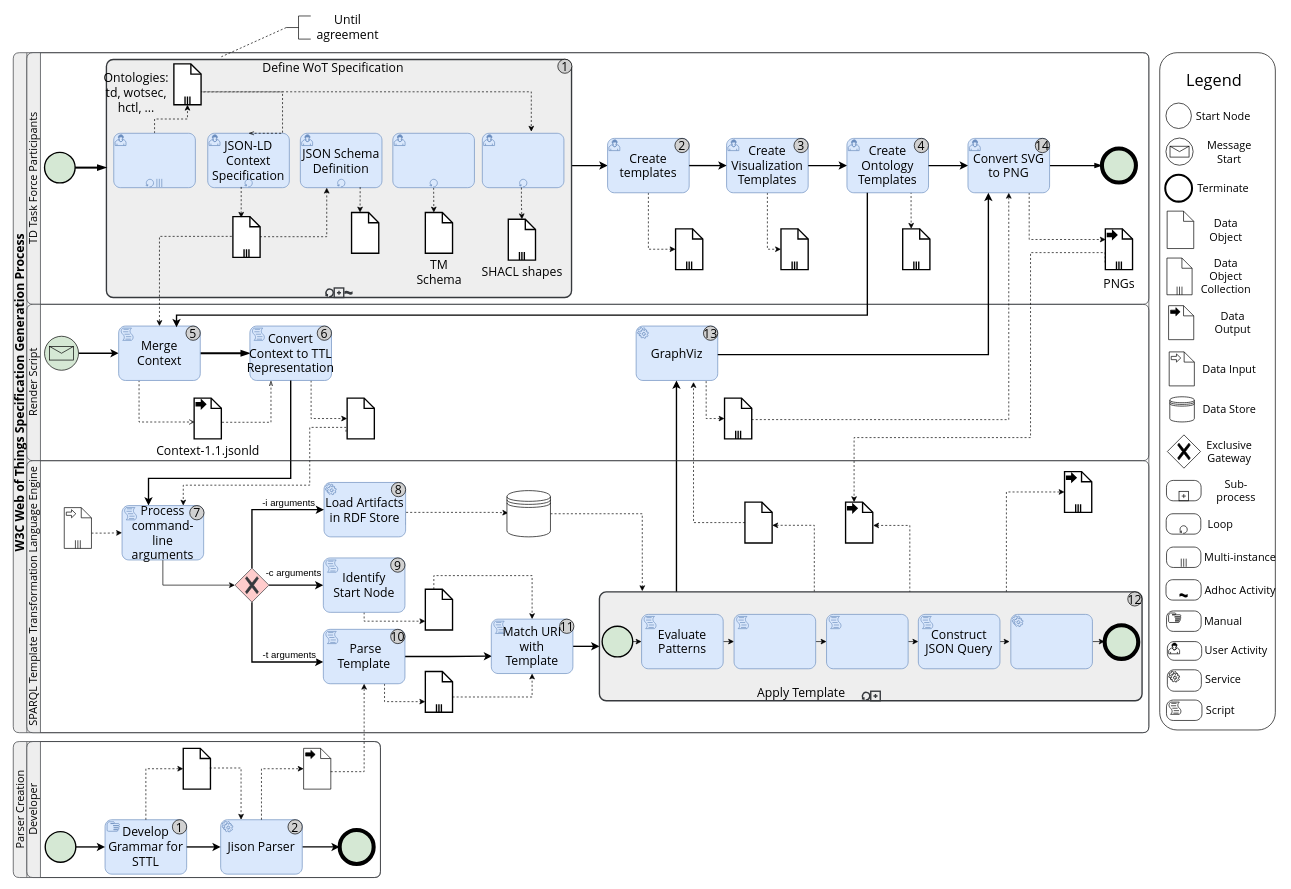
Image size: 1291x889. Some labels were removed from this diagram. Each missing label, with the centre of its shape:
Context-1.1.ttl: the point at 360,418
dot text files: the point at 758,522
Evaluate Expressions: the point at 867,641
Evaluate Variables: the point at 774,641
Execute Query: the point at 1051,641
Grammar: the point at 196,768
index.html: the point at 859,522
Javascript Code: the point at 317,768
JSON Schema: the point at 365,232
JSON-LD Context: the point at 246,237
ontologies, shacl shapes, json-schema, templates: the point at 77,527
Ontology Specification: the point at 154,160
ontology templates.sparql: the point at 916,249
Parsed Template Object: the point at 438,691
RDF Store: the point at 528,513
SHACL Shapes Creation: the point at 523,160
SVGs: the point at 738,418
td.html wotsec.html jsonschema.html tm.html, hctl.html: the point at 1078,492
templates.sparql: the point at 689,249
Thing Model Schema: the point at 433,160
URI: the point at 438,609
visualization templates.sparql: the point at 794,249
